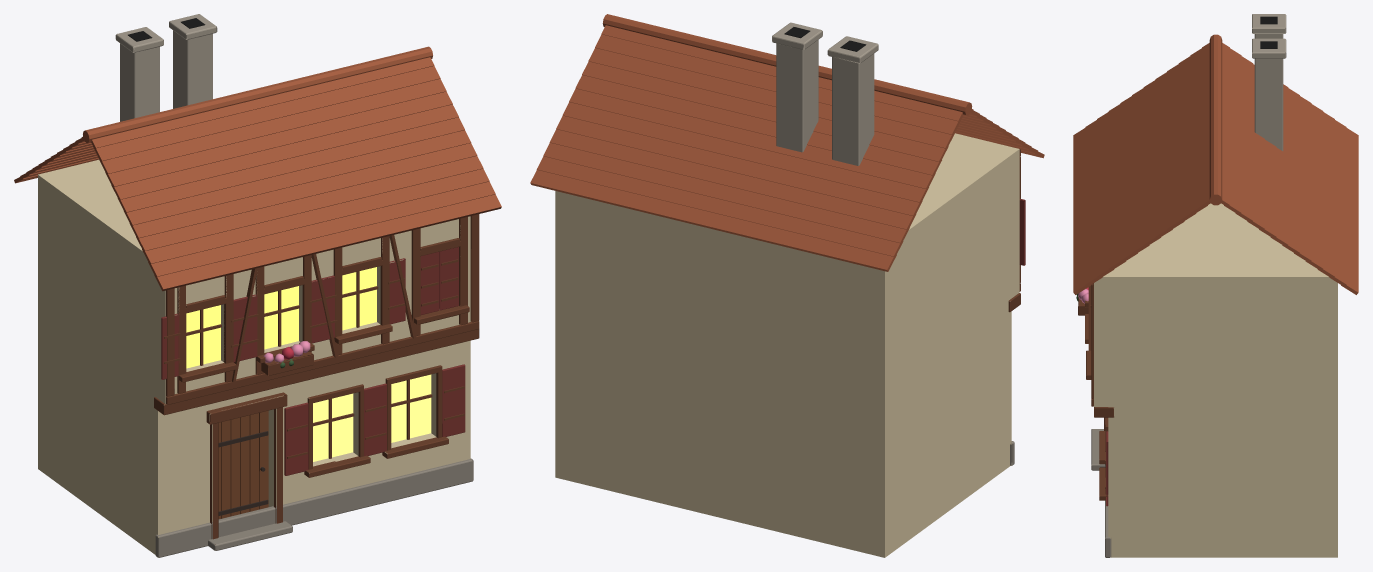
File: casa_6x4_ligero.glb
3 renders of one model, left to right at view 1: azimuth 30°, elevation 25°; view 2: azimuth 150°, elevation 25°; view 3: azimuth 270°, elevation 25°, orthographic. The views are drawn at different scales.
Visible parts, largest first — view 1: casa_6x4_pa_dentro, casa_6x4_pb_dentro, casa_6x4_pb, casa_6x4_zocalo, casa_6x4_tejado_s_0, casa_6x4_tejado_s_8, casa_6x4_tejado_s_6, casa_6x4_tejado_s_7, casa_6x4_tejado_s_2, casa_6x4_tejado_s_1, casa_6x4_tejado_s_3, casa_6x4_tejado_s_10 (+63 smaller); view 2: casa_6x4_pb_dentro, casa_6x4_pa_dentro, casa_6x4_tejado_n_0, casa_6x4_tejado_n_3, casa_6x4_tejado_n_1, casa_6x4_tejado_n_4, casa_6x4_tejado_n_2, casa_6x4_tejado_n_5, casa_6x4_tejado_n_6, casa_6x4_tejado_n_7, casa_6x4_tejado_n_8, casa_6x4_tejado_n_9 (+9 smaller); view 3: casa_6x4_pa_dentro, casa_6x4_pb_dentro, casa_6x4_pb.008, casa_6x4_chimenea0, casa_6x4_tejado_cumbrera, casa_6x4_tejado_n_0, casa_6x4_tejado_s_0, casa_6x4_tejado_n_9, casa_6x4_tejado_s_9, casa_6x4_tejado_s_3, casa_6x4_tejado_s_6, casa_6x4_tejado_n_3 (+21 smaller).
Part boxes in pixels (x1=…): casa_6x4_pa_dentro: x1=38, y1=159, x2=157, y2=398; casa_6x4_pb_dentro: x1=38, y1=311, x2=148, y2=549; casa_6x4_pb: x1=149, y1=392, x2=216, y2=554; casa_6x4_zocalo: x1=155, y1=458, x2=473, y2=557; casa_6x4_tejado_s_0: x1=154, y1=194, x2=501, y2=291; casa_6x4_tejado_s_8: x1=105, y1=91, x2=452, y2=187; casa_6x4_tejado_s_6: x1=117, y1=117, x2=464, y2=213; casa_6x4_tejado_s_7: x1=111, y1=104, x2=458, y2=200; casa_6x4_tejado_s_2: x1=142, y1=168, x2=489, y2=263; casa_6x4_tejado_s_1: x1=148, y1=181, x2=495, y2=276; casa_6x4_tejado_s_3: x1=136, y1=156, x2=483, y2=250; casa_6x4_tejado_s_10: x1=93, y1=66, x2=440, y2=161; casa_6x4_pb_dentro: x1=555, y1=305, x2=1002, y2=557; casa_6x4_pa_dentro: x1=555, y1=140, x2=1011, y2=391; casa_6x4_tejado_n_0: x1=530, y1=170, x2=896, y2=271; casa_6x4_tejado_n_3: x1=549, y1=129, x2=916, y2=230; casa_6x4_tejado_n_1: x1=536, y1=156, x2=903, y2=256; casa_6x4_tejado_n_4: x1=556, y1=115, x2=922, y2=215; casa_6x4_tejado_n_2: x1=543, y1=143, x2=909, y2=243; casa_6x4_tejado_n_5: x1=562, y1=102, x2=928, y2=202; casa_6x4_tejado_n_6: x1=569, y1=88, x2=935, y2=189; casa_6x4_tejado_n_7: x1=575, y1=75, x2=941, y2=175; casa_6x4_tejado_n_8: x1=582, y1=61, x2=948, y2=162; casa_6x4_tejado_n_9: x1=588, y1=48, x2=954, y2=149; casa_6x4_pa_dentro: x1=1108, y1=203, x2=1337, y2=406; casa_6x4_pb_dentro: x1=1125, y1=407, x2=1337, y2=557; casa_6x4_pb.008: x1=1108, y1=407, x2=1125, y2=557; casa_6x4_chimenea0: x1=1254, y1=58, x2=1283, y2=150; casa_6x4_tejado_cumbrera: x1=1209, y1=34, x2=1222, y2=205; casa_6x4_tejado_n_0: x1=1341, y1=128, x2=1358, y2=294; casa_6x4_tejado_s_0: x1=1073, y1=128, x2=1090, y2=294; casa_6x4_tejado_n_9: x1=1235, y1=56, x2=1253, y2=222; casa_6x4_tejado_s_9: x1=1178, y1=56, x2=1196, y2=221; casa_6x4_tejado_s_3: x1=1108, y1=104, x2=1126, y2=269; casa_6x4_tejado_s_6: x1=1143, y1=80, x2=1161, y2=246; casa_6x4_tejado_n_3: x1=1305, y1=104, x2=1323, y2=270.
Bounding box in the file's own units: 6.6 × 8.13 × 4.97.
